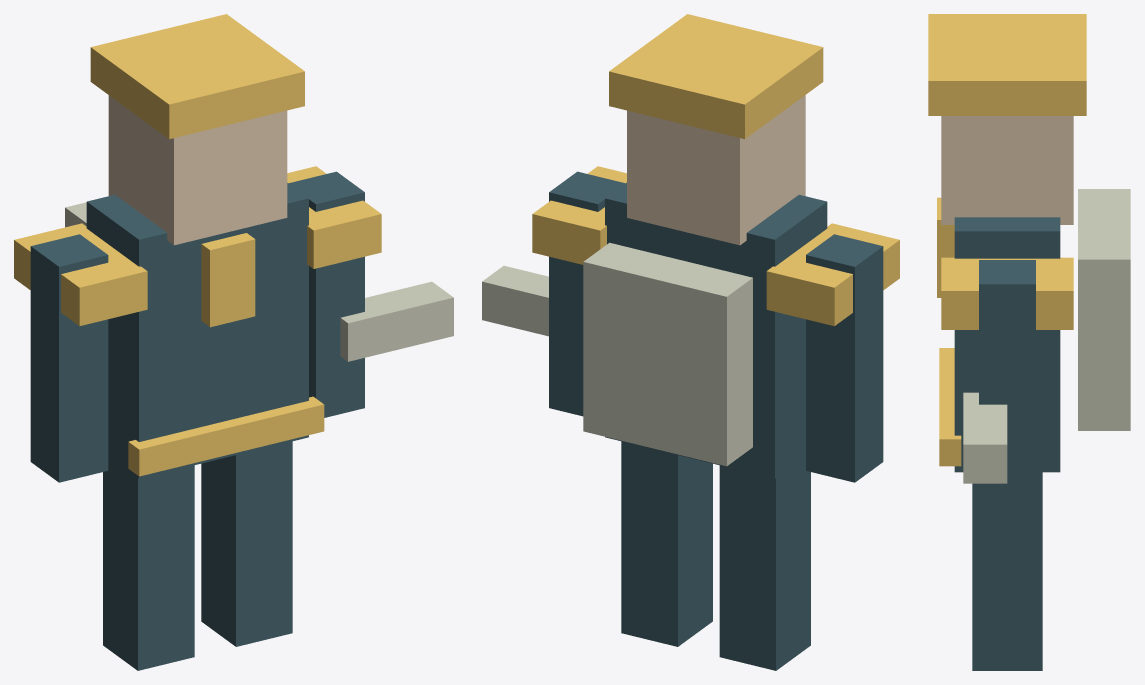
Rendered from 12_elo_gantryn_medic_at_transformation.glb.
3 renders of one model, left to right at view 1: azimuth 30°, elevation 25°; view 2: azimuth 150°, elevation 25°; view 3: azimuth 270°, elevation 25°, orthographic.
Parts seen in each view (by area): view 1: Elo Gantryn, Medic at Transformation; view 2: Elo Gantryn, Medic at Transformation; view 3: Elo Gantryn, Medic at Transformation.
Part boxes in pixels (x1,y1,x2,y2): Elo Gantryn, Medic at Transformation: [14, 14, 453, 670]; Elo Gantryn, Medic at Transformation: [482, 14, 899, 670]; Elo Gantryn, Medic at Transformation: [928, 14, 1130, 670].
Bounding box in the file's own units: 0.9818 × 1.41 × 0.4406.
